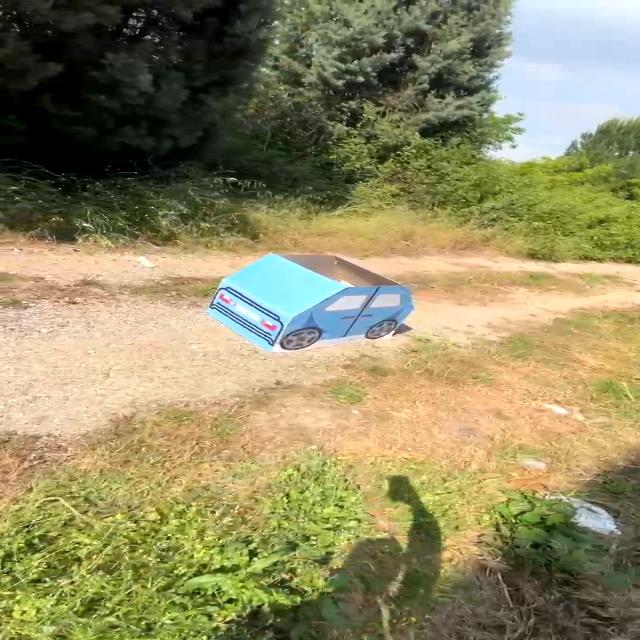blue_car: (196, 238, 423, 370)
